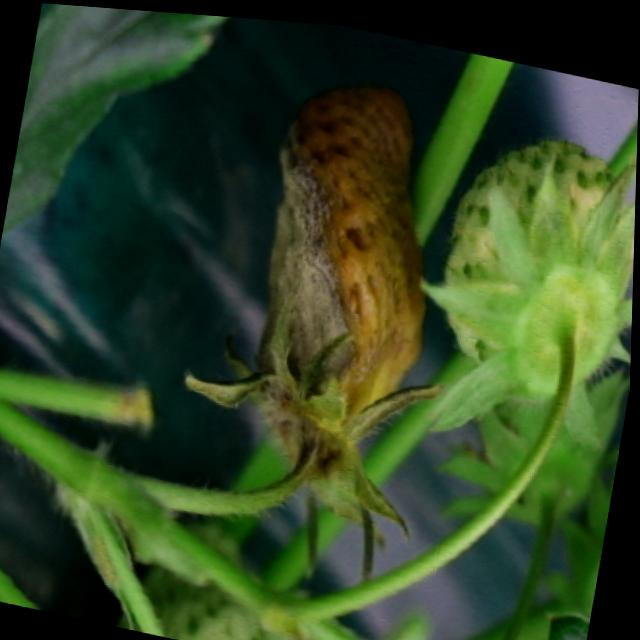Gray Mold: (185, 78, 449, 578)
